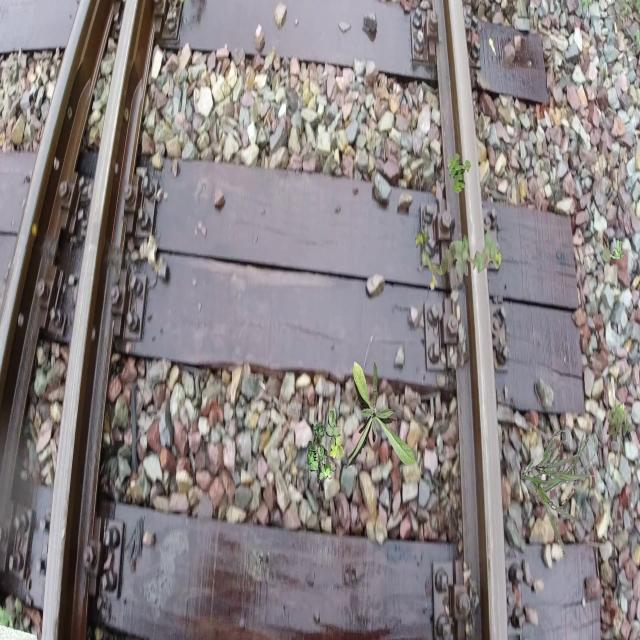Plant: (523, 430, 596, 554), (344, 360, 416, 468), (415, 222, 502, 290), (307, 410, 344, 483), (607, 399, 633, 442), (447, 153, 471, 194), (610, 239, 624, 260)
